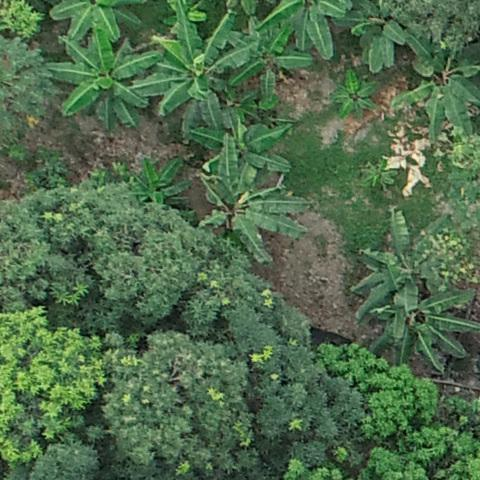Banana-plant: (194, 146, 305, 261), (348, 203, 447, 321), (50, 34, 158, 136), (150, 11, 242, 130), (370, 282, 479, 376), (392, 41, 480, 149), (195, 114, 301, 184), (225, 19, 306, 104), (261, 0, 361, 65), (343, 4, 424, 76), (52, 0, 152, 46), (326, 64, 387, 126), (129, 156, 192, 216), (353, 154, 398, 196)
